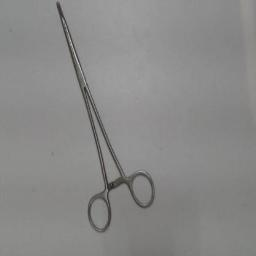Lahey Forceps: (53, 0, 157, 236)
